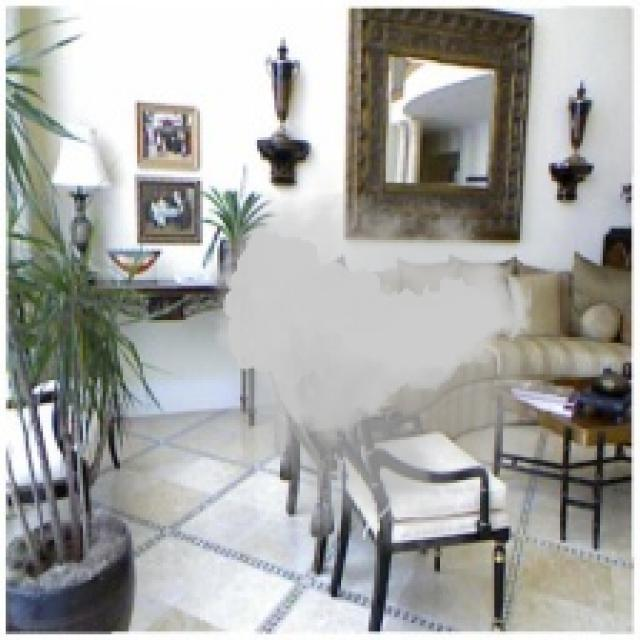Smoke: (200, 160, 554, 583)
